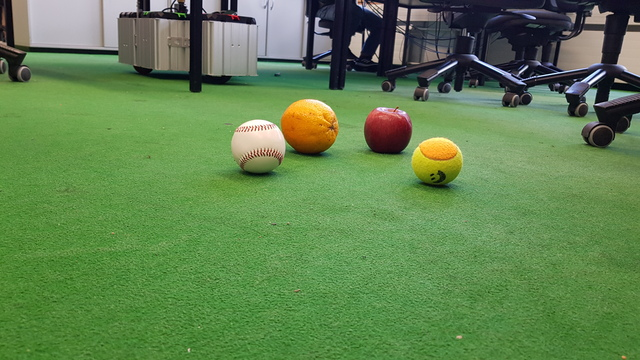013_apple: (363, 106, 413, 155)
017_orange: (281, 98, 340, 157)
055_baseball: (231, 119, 285, 174)
056_tennis_ball: (410, 137, 464, 187)
